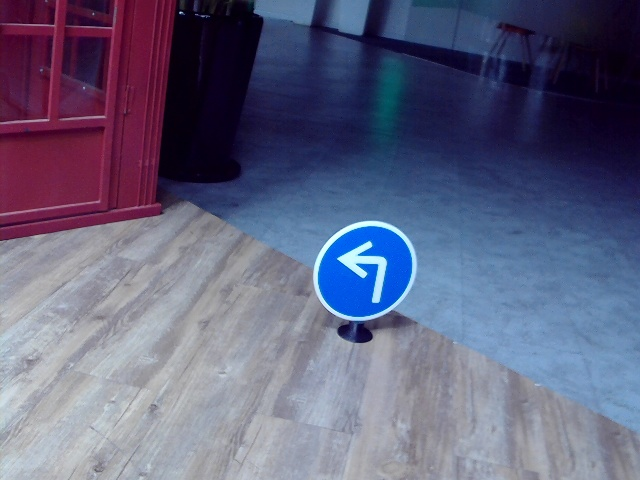turn_left: (338, 237, 393, 303)
